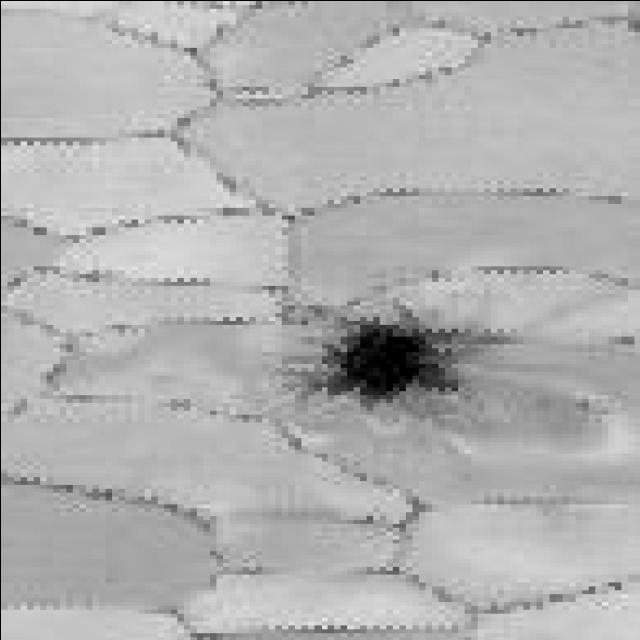good_void: (311, 304, 475, 409)
